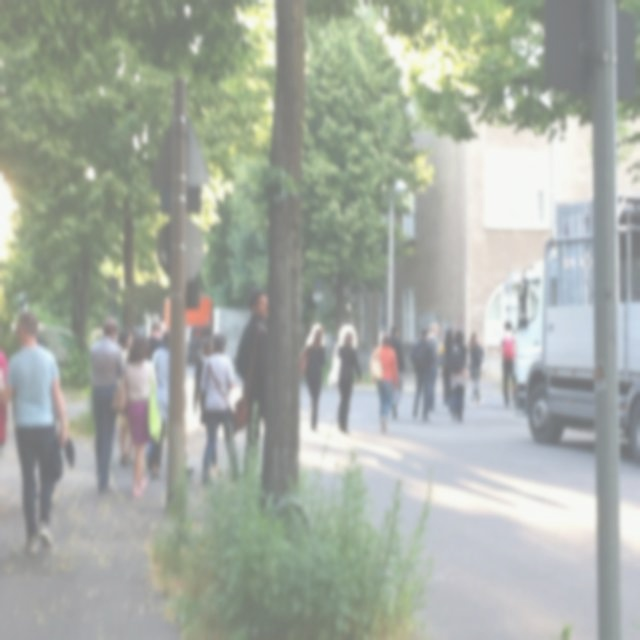pessoa: (0, 312, 69, 558), (12, 320, 62, 514), (111, 333, 158, 498), (231, 291, 271, 484), (145, 330, 195, 480), (89, 318, 125, 500), (199, 334, 239, 487), (326, 322, 364, 435), (192, 334, 220, 474), (368, 328, 400, 435), (298, 322, 328, 432), (408, 325, 436, 423), (116, 327, 135, 469), (448, 330, 469, 424), (498, 318, 518, 409), (436, 326, 457, 408), (466, 329, 486, 410), (389, 326, 406, 420), (426, 321, 441, 414), (0, 345, 11, 458), (146, 318, 166, 362)
